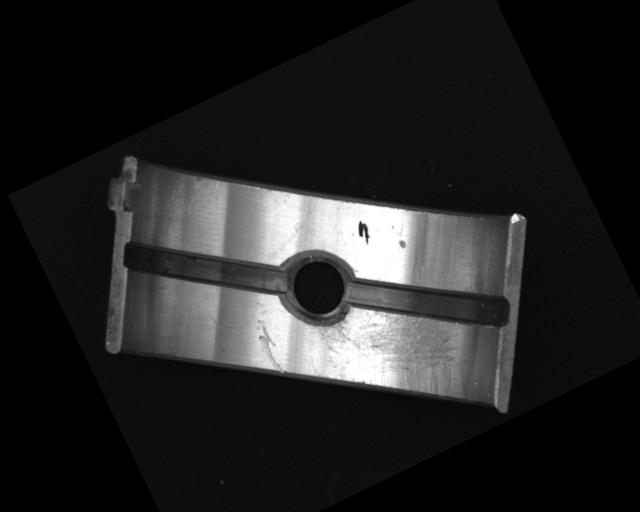blot: (351, 217, 374, 247)
bruise: (395, 236, 409, 252)
gap: (118, 188, 293, 348), (346, 227, 516, 377)
hole: (270, 240, 367, 336)
nick: (248, 316, 290, 378)
scratch: (309, 273, 480, 447)
